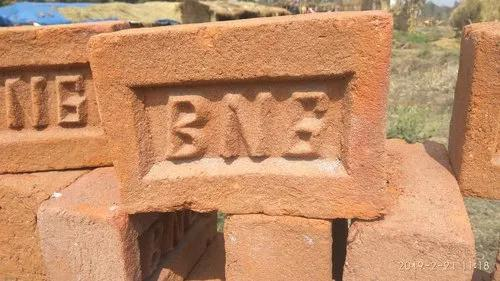brick: (88, 14, 386, 218), (0, 22, 116, 172), (225, 218, 330, 281), (38, 212, 123, 280)
